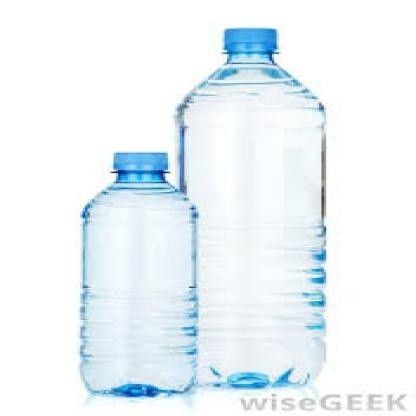trash: (176, 28, 325, 387), (81, 153, 197, 395)
